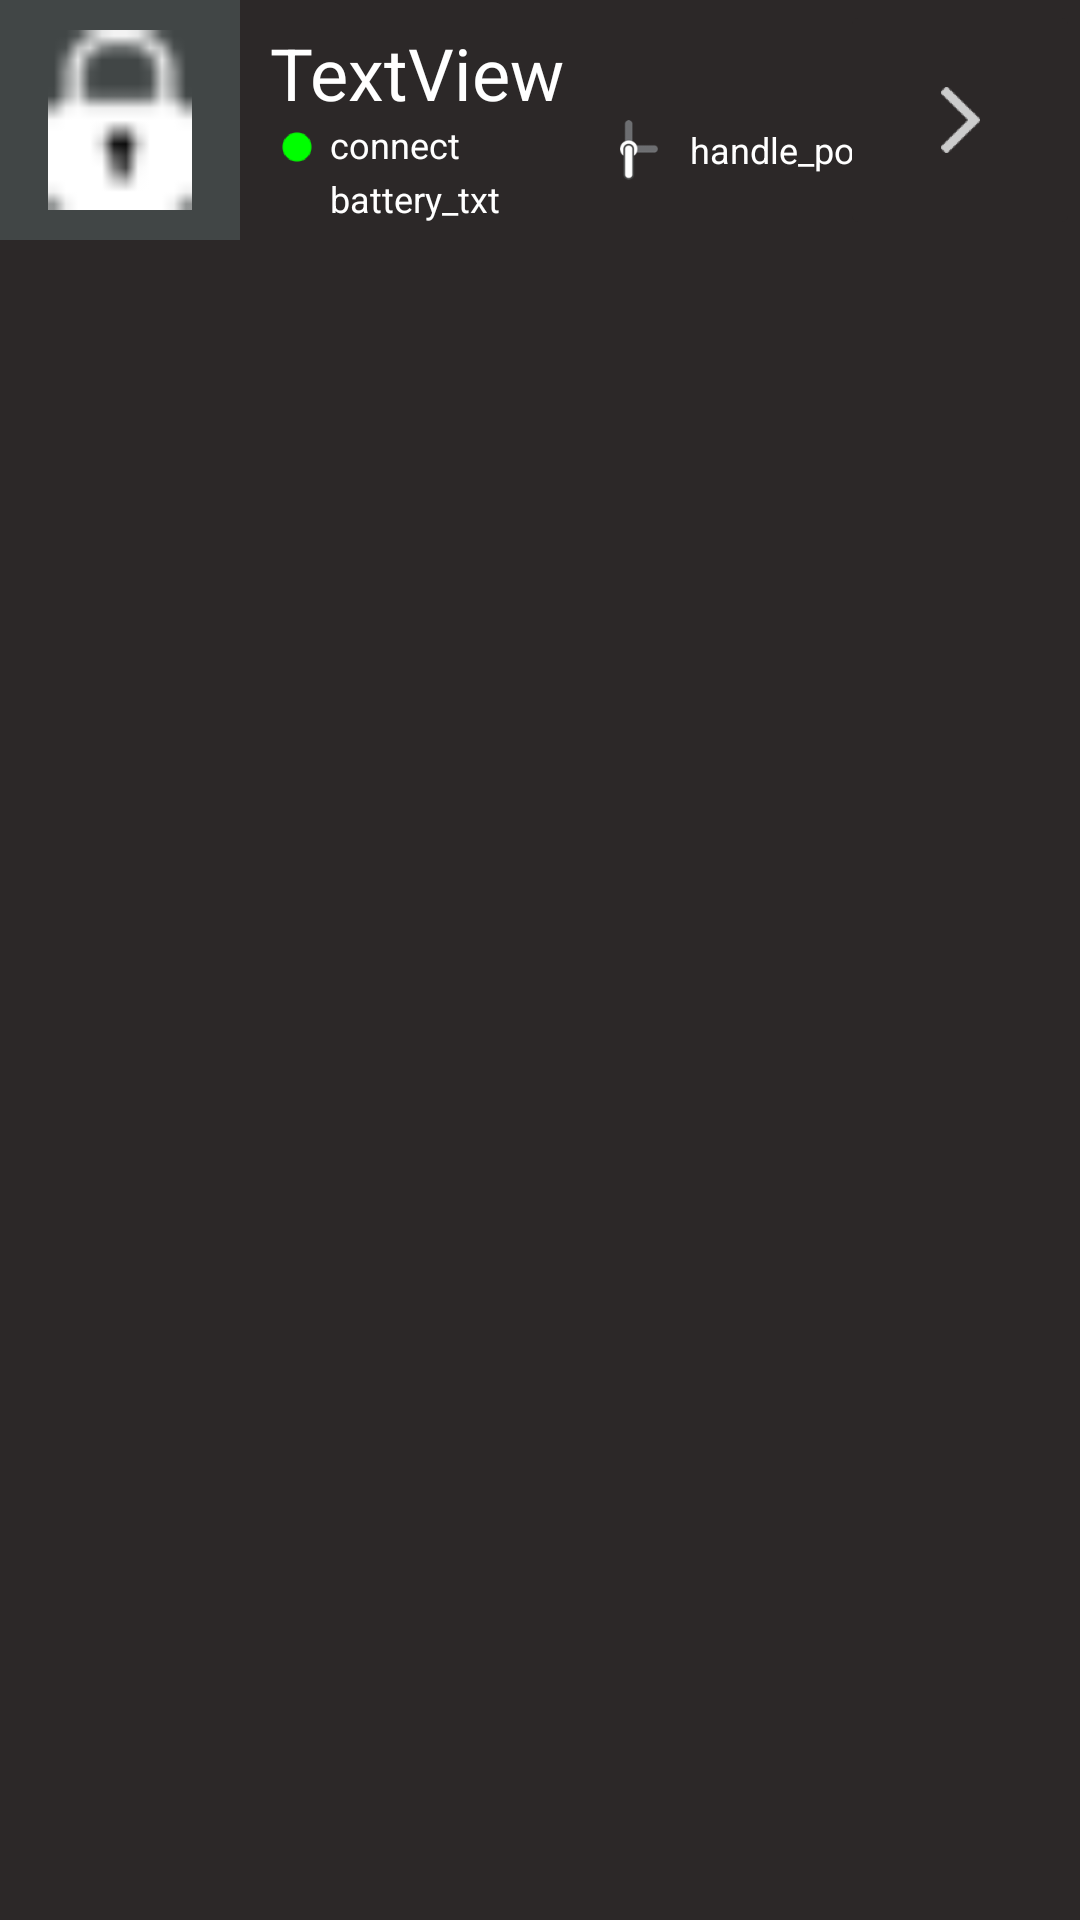

Icons on this 1080 × 1920 Android screen, each with the point to tap as (x=x, y=y):
locked: (x=120, y=120)
sym handle down greyback: (x=639, y=150)
